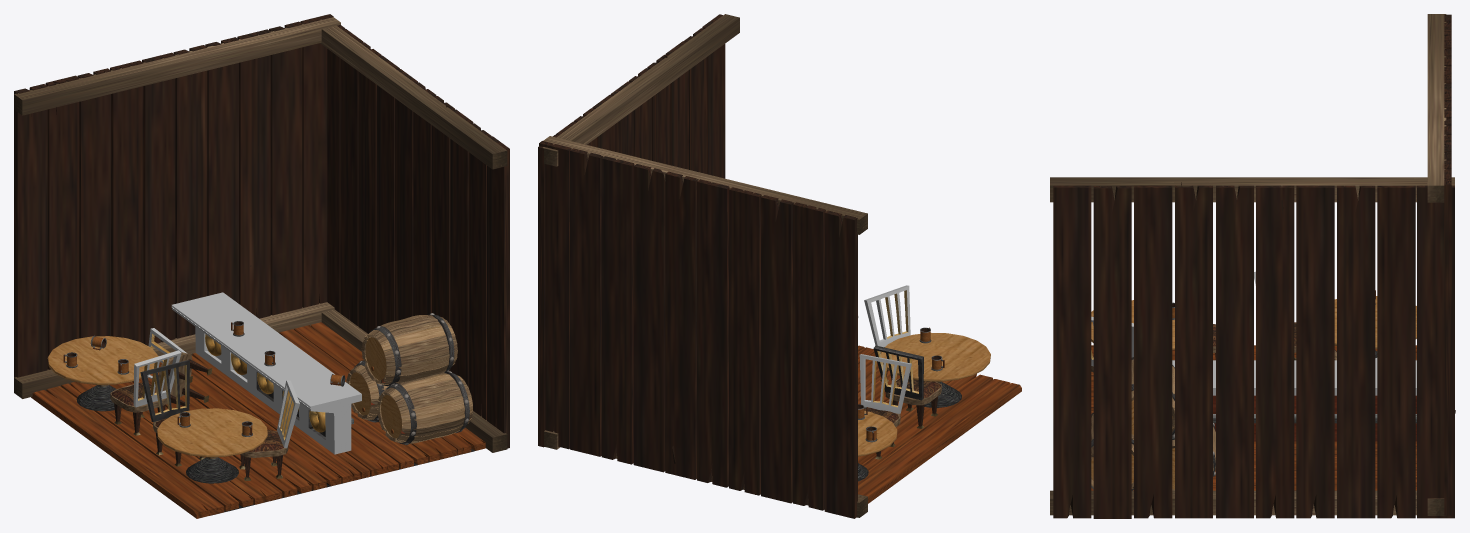
Rendered from TavernScene_FBX.fbx.
The picture shows the model from 3 angles, left to right: view 1: azimuth 30°, elevation 25°; view 2: azimuth 150°, elevation 25°; view 3: azimuth 270°, elevation 25°; orthographic projection. The views are drawn at different scales.
Parts seen in each view (by area): view 1: TavernWall1:pCube3, pCube3, TavernBar:pTorus6, TavernFloor:pCube10, TavernBarrel:pCylinder6, pCylinder7, pCylinder8, pCylinder2, TavernFloor:pCube5, TavernFloor:pCube9, TavernFloor:pCube6, pCube10 (+12 smaller); view 2: TavernWall1:pCube3, pCube3, TavernFloor:pCube10, pCylinder8, TavernChair:pCube9, TavernFloor:pCube9, pCube10, pCube9, pCylinder2; view 3: pCube3, TavernWall1:pCube3, TavernBar:pTorus6.
Boxes of the visible parts, x1=… form: TavernWall1:pCube3: x1=14, y1=14, x2=340, y2=398; pCube3: x1=320, y1=25, x2=509, y2=452; TavernBar:pTorus6: x1=171, y1=292, x2=361, y2=454; TavernFloor:pCube10: x1=31, y1=386, x2=224, y2=518; TavernBarrel:pCylinder6: x1=377, y1=371, x2=473, y2=444; pCylinder7: x1=361, y1=313, x2=457, y2=386; pCylinder8: x1=157, y1=408, x2=267, y2=457; pCylinder2: x1=47, y1=336, x2=157, y2=384; TavernFloor:pCube5: x1=190, y1=353, x2=369, y2=483; TavernFloor:pCube9: x1=61, y1=381, x2=253, y2=511; TavernFloor:pCube6: x1=158, y1=362, x2=341, y2=490; pCube10: x1=110, y1=350, x2=181, y2=435; TavernWall1:pCube3: x1=539, y1=136, x2=867, y2=518; pCube3: x1=538, y1=14, x2=739, y2=449; TavernFloor:pCube10: x1=858, y1=379, x2=1021, y2=503; pCylinder8: x1=881, y1=333, x2=990, y2=381; TavernChair:pCube9: x1=873, y1=345, x2=941, y2=429; TavernFloor:pCube9: x1=858, y1=373, x2=992, y2=470; pCube10: x1=859, y1=354, x2=911, y2=459; pCube9: x1=864, y1=285, x2=910, y2=381; pCylinder2: x1=858, y1=411, x2=897, y2=456; pCube3: x1=1050, y1=177, x2=1454, y2=518; TavernWall1:pCube3: x1=1427, y1=14, x2=1455, y2=515; TavernBar:pTorus6: x1=1172, y1=360, x2=1416, y2=441.
Size of the model in its own units: 21.83 by 19.83 by 21.61.
2 materials, 1 textured.
